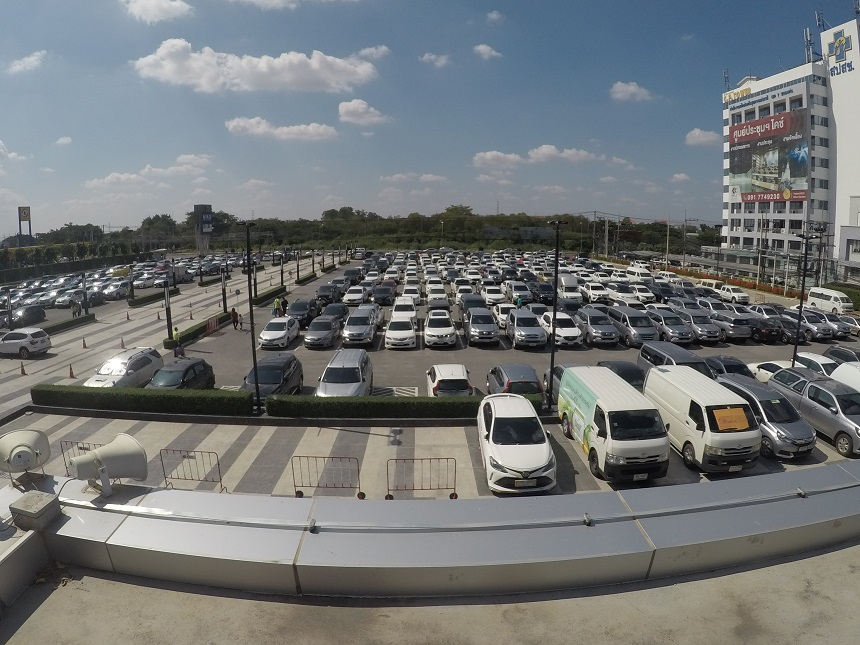busy: (479, 438, 561, 493), (593, 425, 673, 477), (692, 427, 761, 469), (92, 349, 150, 382), (321, 364, 370, 395), (653, 349, 700, 380), (826, 408, 860, 446), (250, 364, 298, 390), (431, 367, 472, 395), (777, 423, 810, 455), (508, 323, 550, 348), (601, 355, 639, 381), (492, 365, 531, 388), (425, 325, 461, 349), (258, 324, 295, 347), (465, 323, 502, 346), (548, 364, 585, 386), (160, 366, 200, 386), (342, 321, 373, 346), (384, 326, 419, 348), (305, 327, 334, 348), (627, 323, 659, 342), (713, 356, 745, 374), (665, 322, 693, 342), (793, 349, 819, 370), (558, 327, 584, 348), (698, 320, 722, 342), (756, 359, 782, 377), (591, 328, 620, 344), (754, 321, 776, 342), (826, 346, 852, 363), (726, 321, 749, 340), (808, 322, 828, 339), (782, 326, 802, 341), (832, 320, 845, 336), (848, 318, 860, 333)
